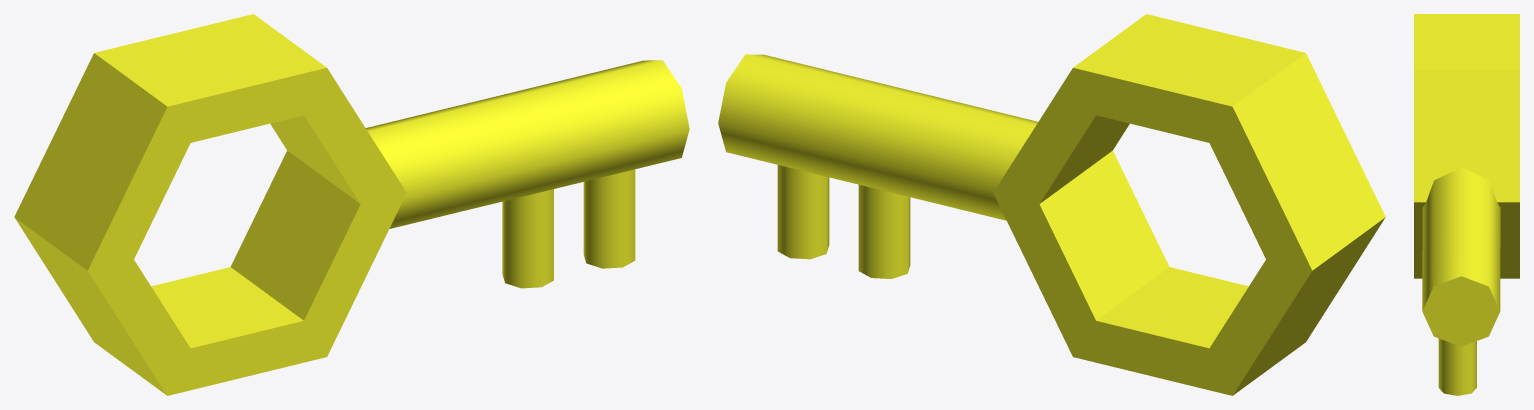
The model's file is Gold Key.fbx.
The picture shows the model from 3 angles, left to right: view 1: azimuth 30°, elevation 25°; view 2: azimuth 150°, elevation 25°; view 3: azimuth 270°, elevation 25°; orthographic projection. The views are drawn at different scales.
Parts seen in each view (by area): view 1: Pipe, Cylinder, Cylinder_1, Cylinder__1_; view 2: Pipe, Cylinder, Cylinder_1, Cylinder__1_; view 3: Pipe, Cylinder, Cylinder_1.
Boxes of the visible parts, x1,y1,x2,y2 form: Pipe: (14, 14, 406, 395); Cylinder: (366, 60, 689, 228); Cylinder_1: (583, 169, 635, 268); Cylinder__1_: (502, 189, 553, 288); Pipe: (993, 14, 1385, 395); Cylinder: (718, 54, 1037, 220); Cylinder_1: (777, 165, 829, 259); Cylinder__1_: (858, 184, 910, 278); Pipe: (1414, 14, 1519, 278); Cylinder: (1422, 167, 1500, 346); Cylinder_1: (1438, 338, 1476, 395).
Bounding box in the file's own units: 263 × 120 × 55.
